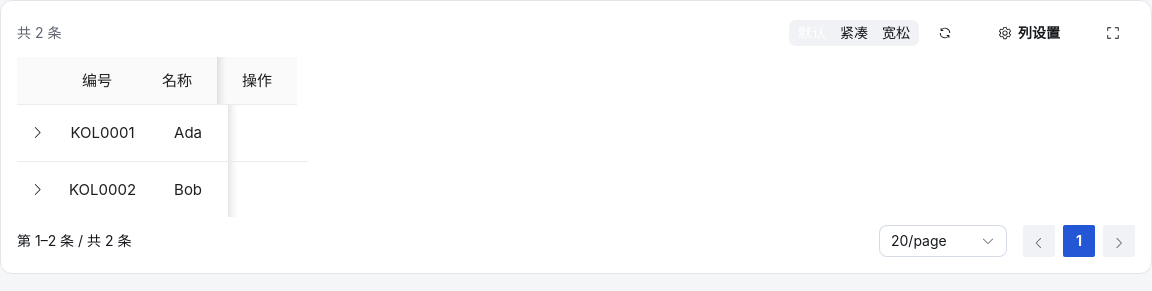
Test: DataTable expand rows › renders the expand slot of a row after opening it
Step 1. Click the icon next to "KOL0001" → [37, 133], box [29,123,45,143]
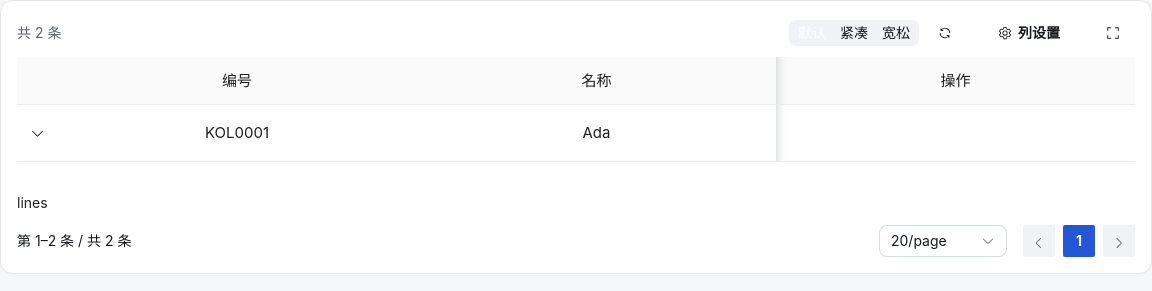
Check: the text "lines" is shown, box [17,194,48,211]
